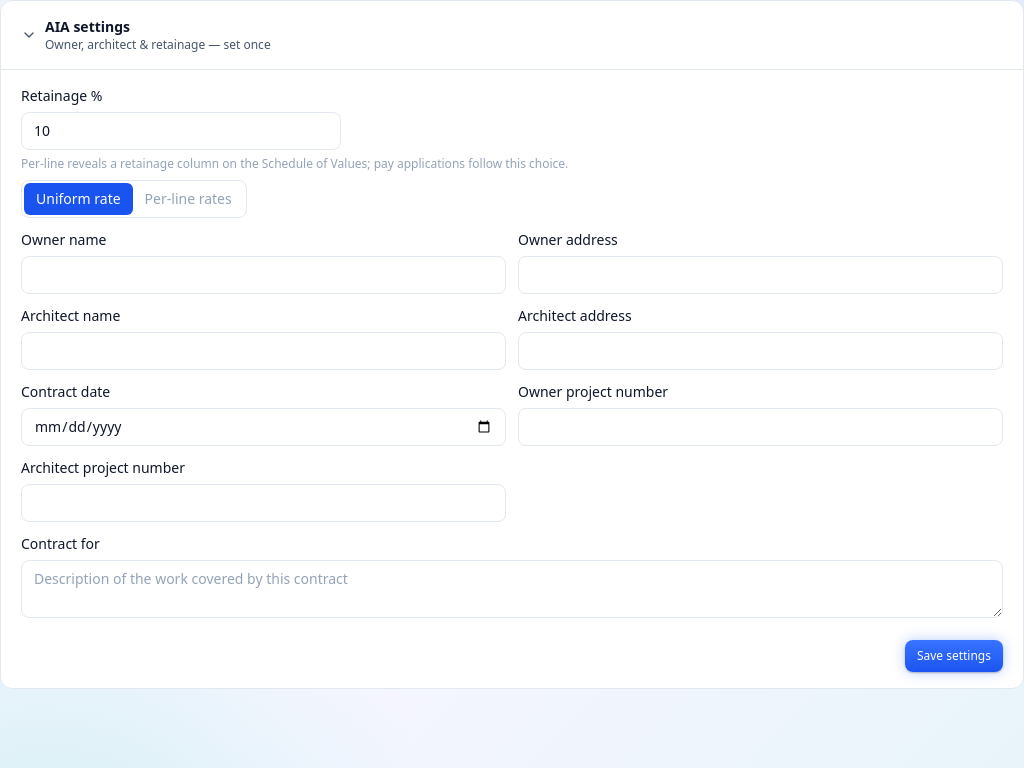
AiaSettingsForm — retainage mode change › confirms before a mode change that would recompute existing applications
Click the button "Per-line rates". click: (188, 199)
box: top-left (133, 183), bottom-right (244, 215)
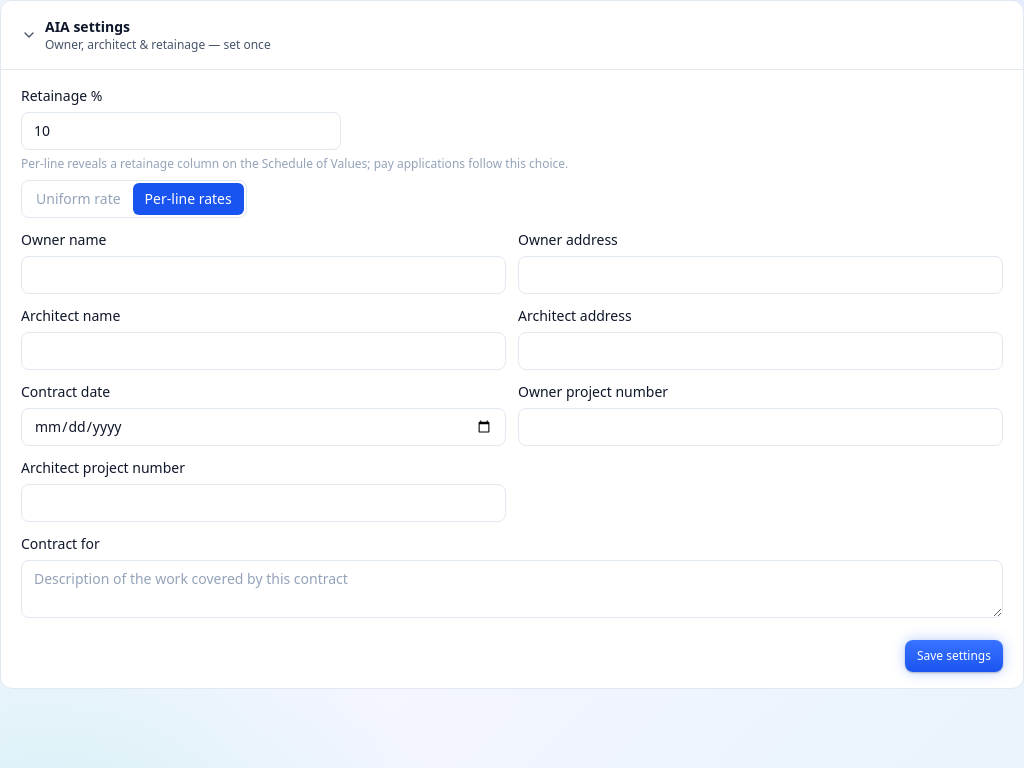
Click the button "Save settings". click: (954, 656)
box: top-left (905, 640), bottom-right (1003, 672)
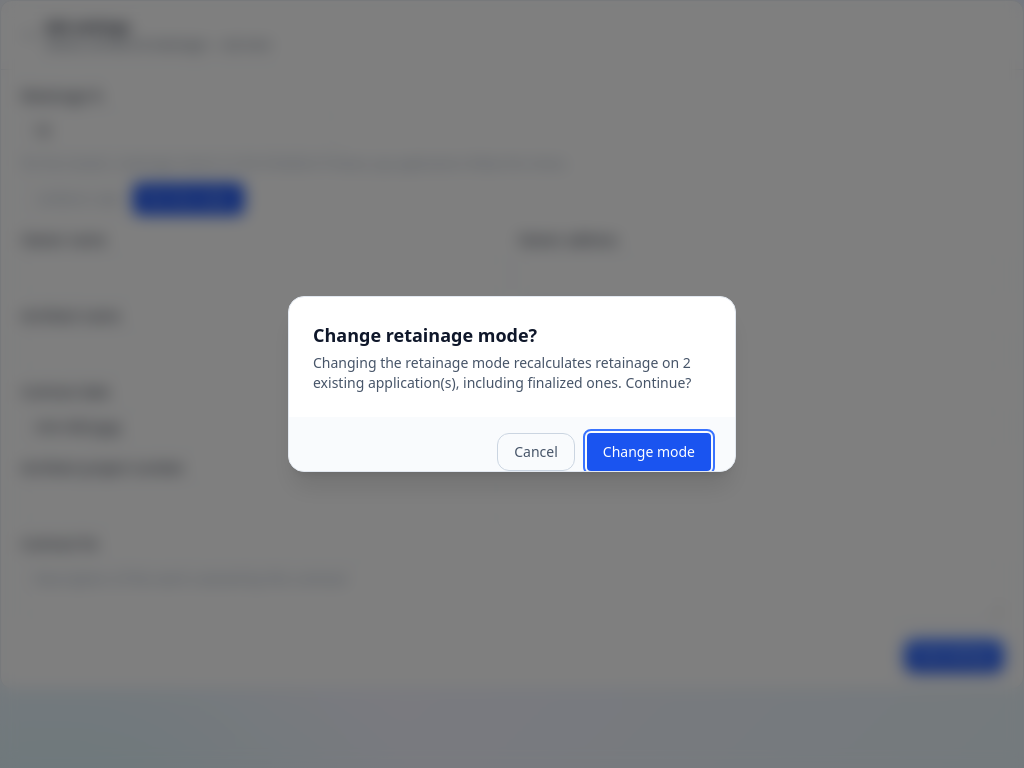
Now the text "recalculates retainage on 2 existing application(s), including finalized ones" is shown, box top-left (313, 353), bottom-right (691, 392)
